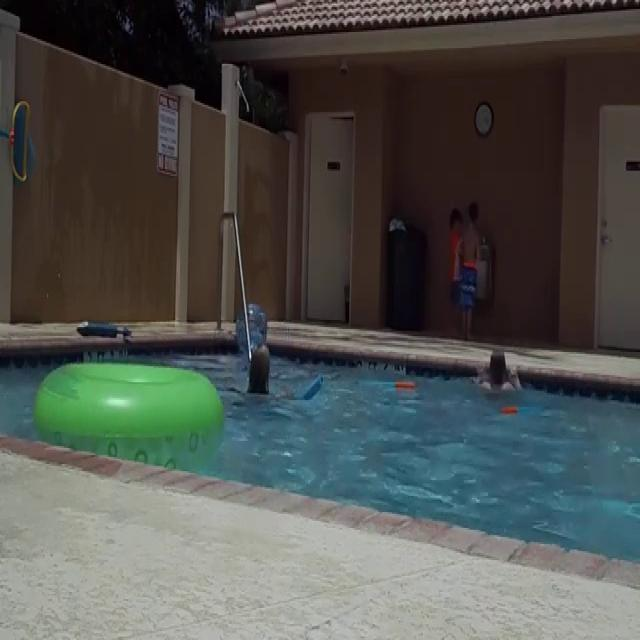child: (460, 200, 480, 336), (444, 208, 462, 334), (475, 348, 523, 394), (245, 342, 272, 398)
